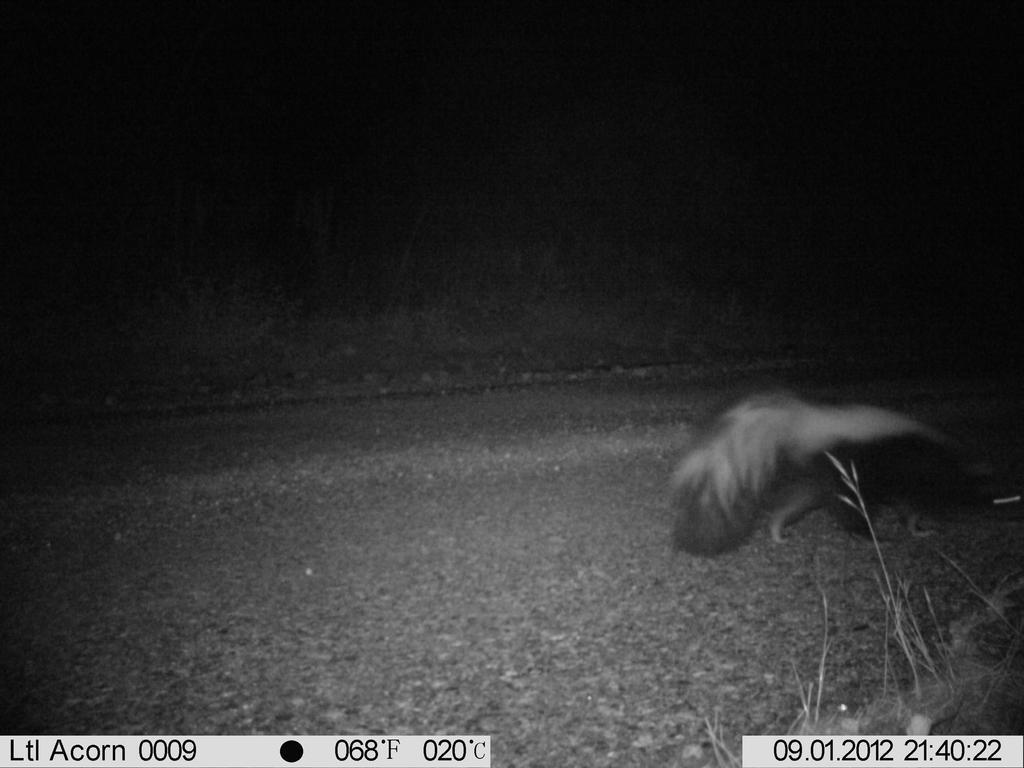skunk: (652, 375, 1021, 571)
